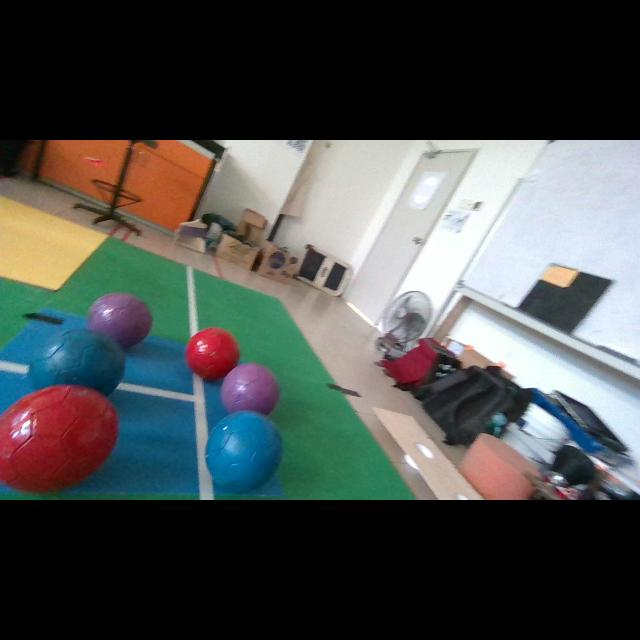B: (29, 329, 125, 395), (206, 410, 282, 492)
P: (88, 292, 152, 349), (221, 362, 279, 414)
R: (0, 385, 118, 492), (185, 328, 240, 380)
